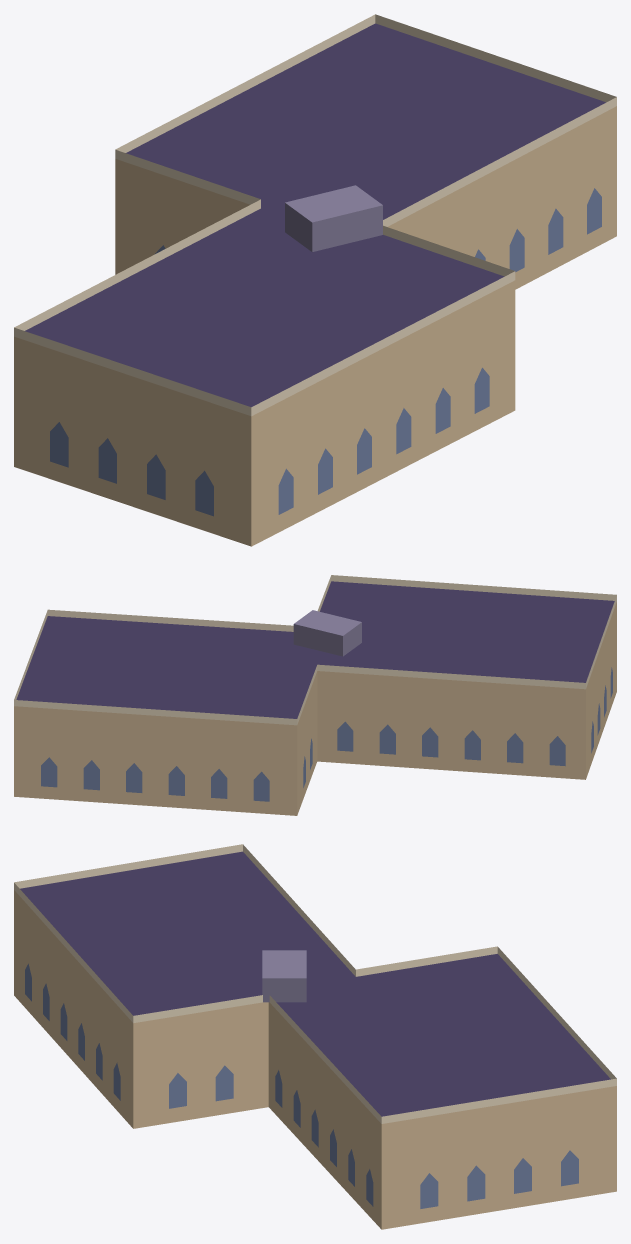
File: b-138-day.glb
3 renders of one model, top to bottom at view 1: azimuth 30°, elevation 25°; view 2: azimuth 150°, elevation 25°; view 3: azimuth 270°, elevation 25°, orthographic. The views are drawn at different scales.
Parts seen in each view (by area): view 1: campus/b-138-day-0; view 2: campus/b-138-day-0; view 3: campus/b-138-day-0.
Part boxes in pixels (x1,y1,x2,y2): campus/b-138-day-0: [14, 14, 616, 546]; campus/b-138-day-0: [14, 575, 616, 815]; campus/b-138-day-0: [14, 844, 616, 1229].
Size of the model in its own units: 43.68 by 9.7 by 40.84.
